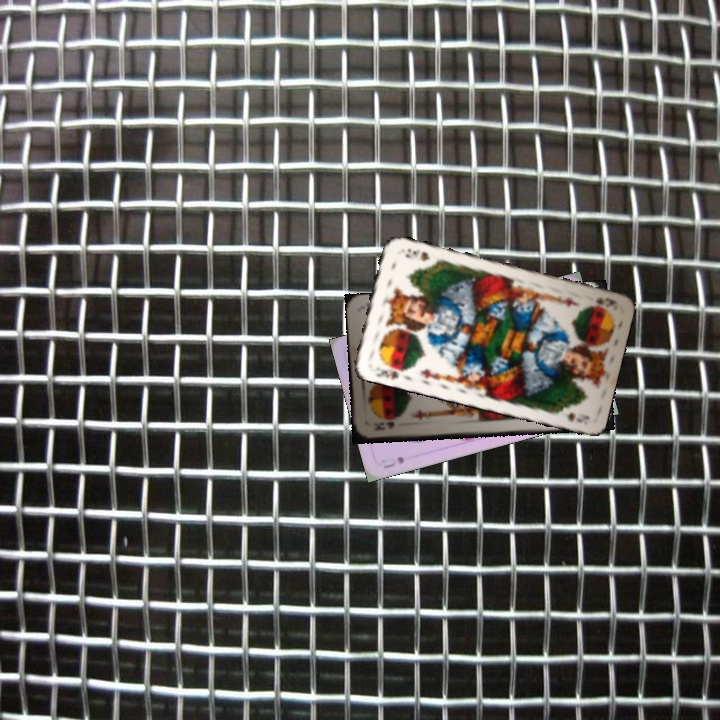SK: (372, 359, 409, 382), (591, 294, 620, 310), (370, 417, 397, 433)
SU: (378, 452, 407, 471)
